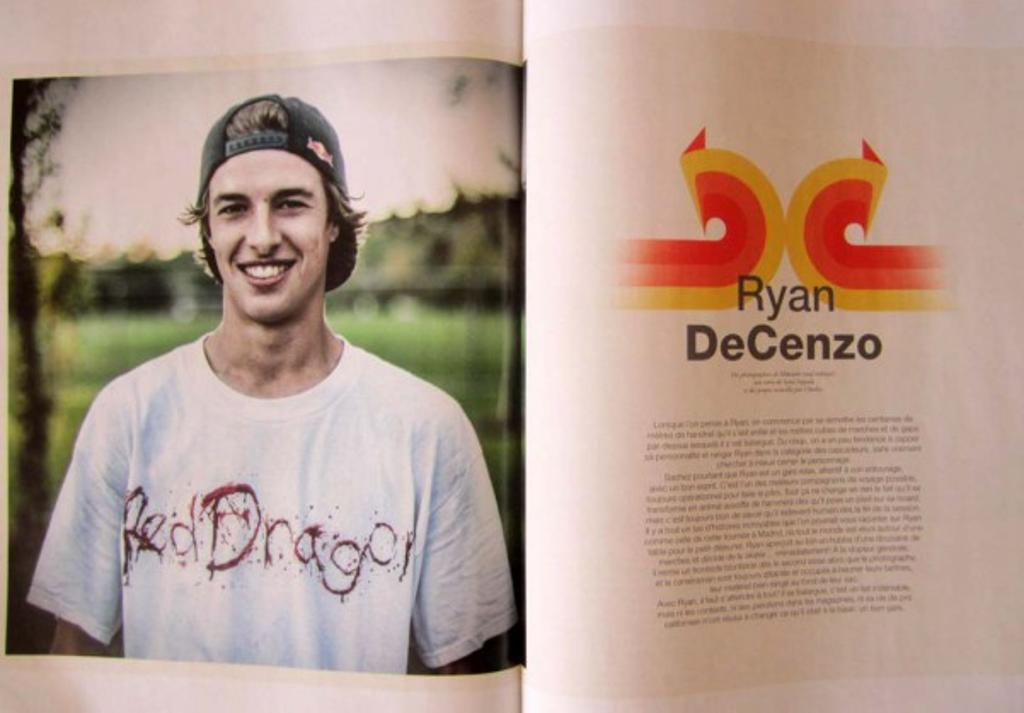face: (208, 156, 326, 316)
